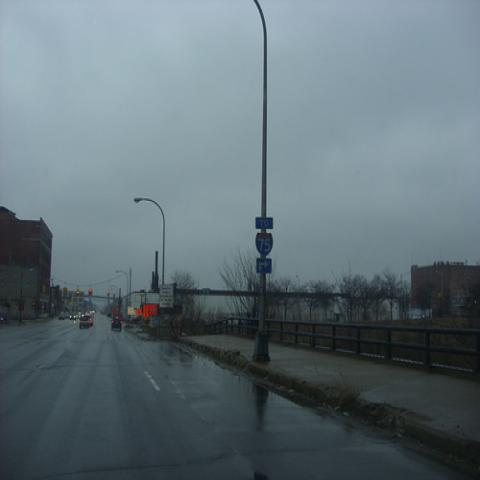car: (132, 314, 150, 326), (111, 316, 123, 330), (79, 317, 92, 328), (69, 312, 76, 321), (58, 313, 64, 320)
